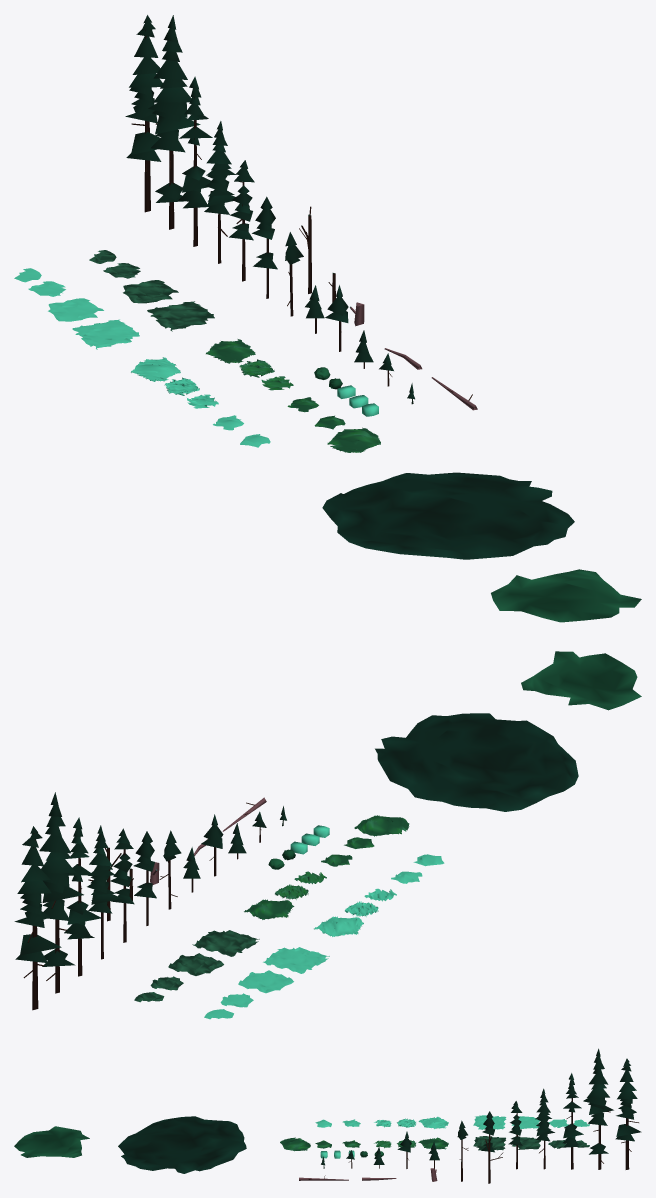
File: Tree_Pack.fbx
3 views of the same model, one above another, from view 1: azimuth 30°, elevation 25°; view 2: azimuth 150°, elevation 25°; view 3: azimuth 270°, elevation 25° (orthographic). The views are drawn at different scales.
Visible parts, largest first — view 1: grassWide, grassWide1, Dead1.053, Dead1.119, Dead1.039, Dead1.072, GroundCover_Grass.002, GroundCover_Grass.017, Dead1.083, GroundCover_Grass.003, Dead1.028, GroundCover_Grass.005 (+1 smaller); view 2: grassWide, grassWide1, Dead1.053, Dead1.119, Dead1.039, Dead1.072, GroundCover_Grass.002, GroundCover_Grass.017, Dead1.083, Dead1.028, GroundCover_Grass.003, GroundCover_Grass.016 (+3 smaller); view 3: grassWide, grassWide1, Dead1.053, Dead1.119, Dead1.039, Dead1.072, Dead1.083, GroundCover_Grass.002, GroundCover_Grass.003, GroundCover_Grass.017, Dead1.028, GroundCover_Grass.012 (+3 smaller).
Part boxes in pixels (x1,y1,x2,y2): grassWide: [322, 472, 574, 559]; grassWide1: [491, 569, 641, 622]; Dead1.053: [148, 15, 200, 229]; Dead1.119: [125, 15, 162, 212]; Dead1.039: [178, 76, 212, 246]; Dead1.072: [204, 121, 235, 263]; GroundCover_Grass.002: [147, 301, 214, 331]; GroundCover_Grass.017: [72, 319, 139, 349]; Dead1.083: [229, 160, 254, 281]; GroundCover_Grass.003: [327, 427, 380, 452]; Dead1.028: [252, 196, 277, 298]; GroundCover_Grass.005: [123, 280, 178, 303]; grassWide: [375, 713, 578, 811]; grassWide1: [521, 651, 641, 710]; Dead1.053: [39, 792, 83, 993]; Dead1.119: [14, 826, 61, 1010]; Dead1.039: [64, 817, 101, 976]; Dead1.072: [87, 825, 121, 959]; GroundCover_Grass.002: [192, 930, 259, 956]; GroundCover_Grass.017: [263, 947, 329, 973]; Dead1.083: [110, 828, 134, 942]; Dead1.028: [133, 831, 156, 925]; GroundCover_Grass.003: [354, 815, 409, 836]; GroundCover_Grass.016: [238, 970, 293, 993]; grassWide: [118, 1116, 246, 1173]; grassWide1: [14, 1126, 89, 1157]; Dead1.053: [583, 1048, 613, 1169]; Dead1.119: [615, 1058, 641, 1169]; Dead1.039: [562, 1073, 583, 1169]; Dead1.072: [535, 1088, 554, 1169]; Dead1.083: [508, 1101, 522, 1169]; GroundCover_Grass.002: [473, 1136, 505, 1150]; GroundCover_Grass.003: [280, 1137, 310, 1151]; GroundCover_Grass.017: [473, 1115, 506, 1129]; Dead1.028: [481, 1111, 494, 1152]; GroundCover_Grass.012: [418, 1116, 448, 1128].
Bounding box in the file's own units: 2732 × 2376 × 10889.
